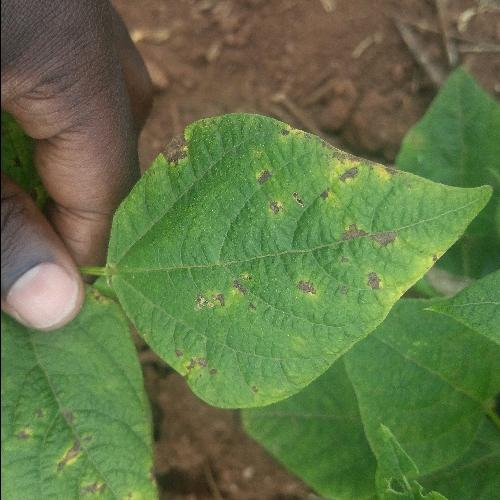hawar: (140, 156, 400, 357)
